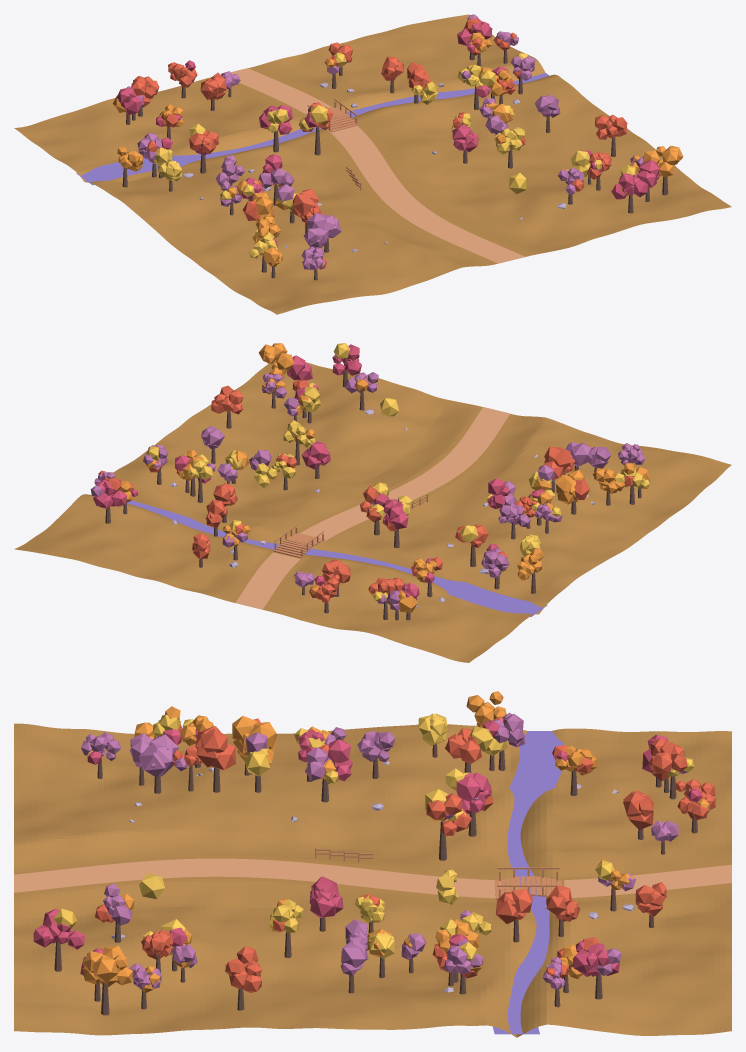
The model's file is autumn-world.glb.
3 views of the same model, one above another, from view 1: azimuth 30°, elevation 25°; view 2: azimuth 150°, elevation 25°; view 3: azimuth 270°, elevation 25° (orthographic). The views are drawn at different scales.
Parts seen in each view (by area): view 1: EX_Terrain, EX_Leaves, EX_Path, EX_Trunks, EX_Water, EX_Bridge; view 2: EX_Terrain, EX_Leaves, EX_Path, EX_Water, EX_Trunks, EX_Bridge; view 3: EX_Terrain, EX_Leaves, EX_Path, EX_Water, EX_Trunks, EX_Bridge.
Part boxes in pixels (x1,y1,x2,y2): EX_Terrain: (14,14,731,314); EX_Leaves: (113,14,683,269); EX_Path: (230,68,524,263); EX_Trunks: (122,50,668,280); EX_Water: (76,72,549,185); EX_Bridge: (307,98,358,132); EX_Terrain: (14,360,731,662); EX_Leaves: (90,343,649,612); EX_Path: (235,407,510,609); EX_Water: (127,500,547,616); EX_Trunks: (105,365,641,620); EX_Bridge: (273,524,324,557); EX_Terrain: (14,723,731,1037); EX_Leaves: (33,691,715,993); EX_Path: (14,858,731,898); EX_Water: (492,731,563,1034); EX_Trunks: (54,744,697,1015); EX_Bridge: (494,867,561,899).
Bounding box in the file's own units: 84 × 10.29 × 84.
